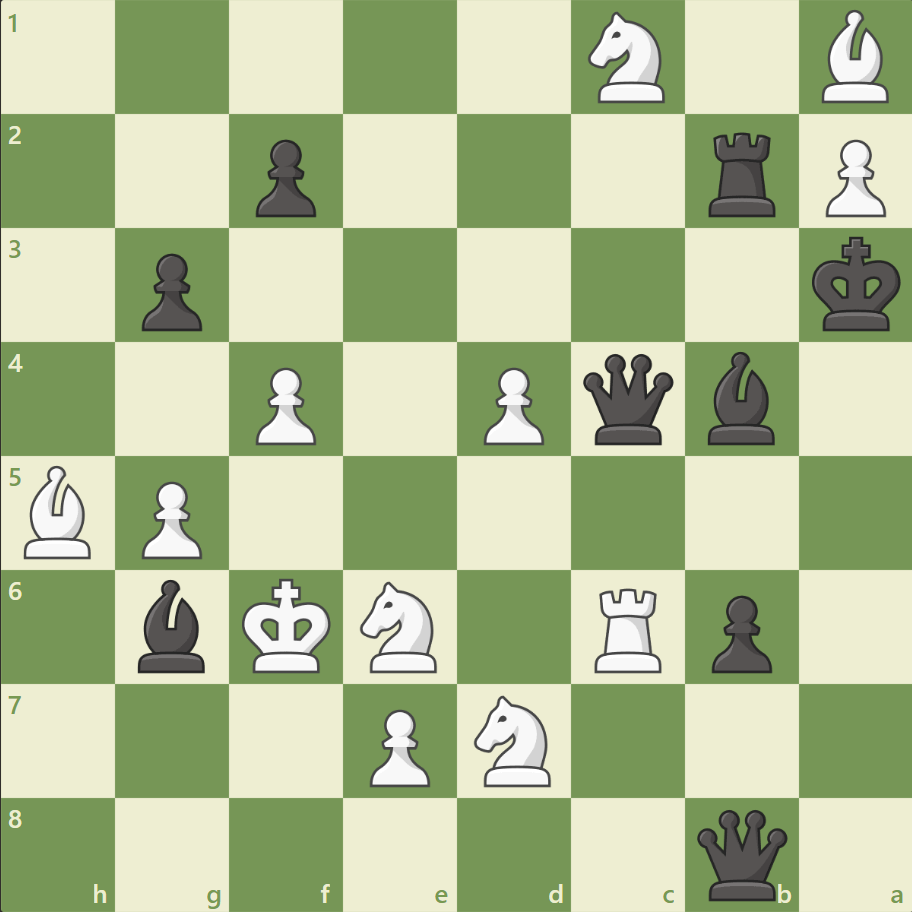B: (17, 460, 101, 563), (812, 6, 896, 109)
K: (238, 571, 338, 679)
N: (351, 575, 449, 677), (465, 688, 562, 791), (579, 7, 676, 110)
P: (133, 473, 208, 564), (474, 359, 549, 450), (247, 359, 322, 450), (361, 700, 435, 791), (815, 132, 889, 223)
R: (587, 579, 670, 676)
b: (131, 574, 215, 676), (698, 347, 782, 449)
k: (806, 231, 906, 339)
p: (701, 586, 776, 677), (133, 246, 208, 337), (247, 132, 322, 223)
q: (578, 349, 677, 449), (691, 804, 790, 903)
r: (700, 125, 783, 222)
